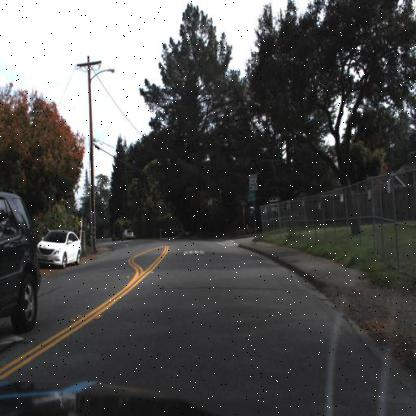car: (36, 229, 83, 265), (119, 223, 135, 243), (121, 226, 134, 241)
